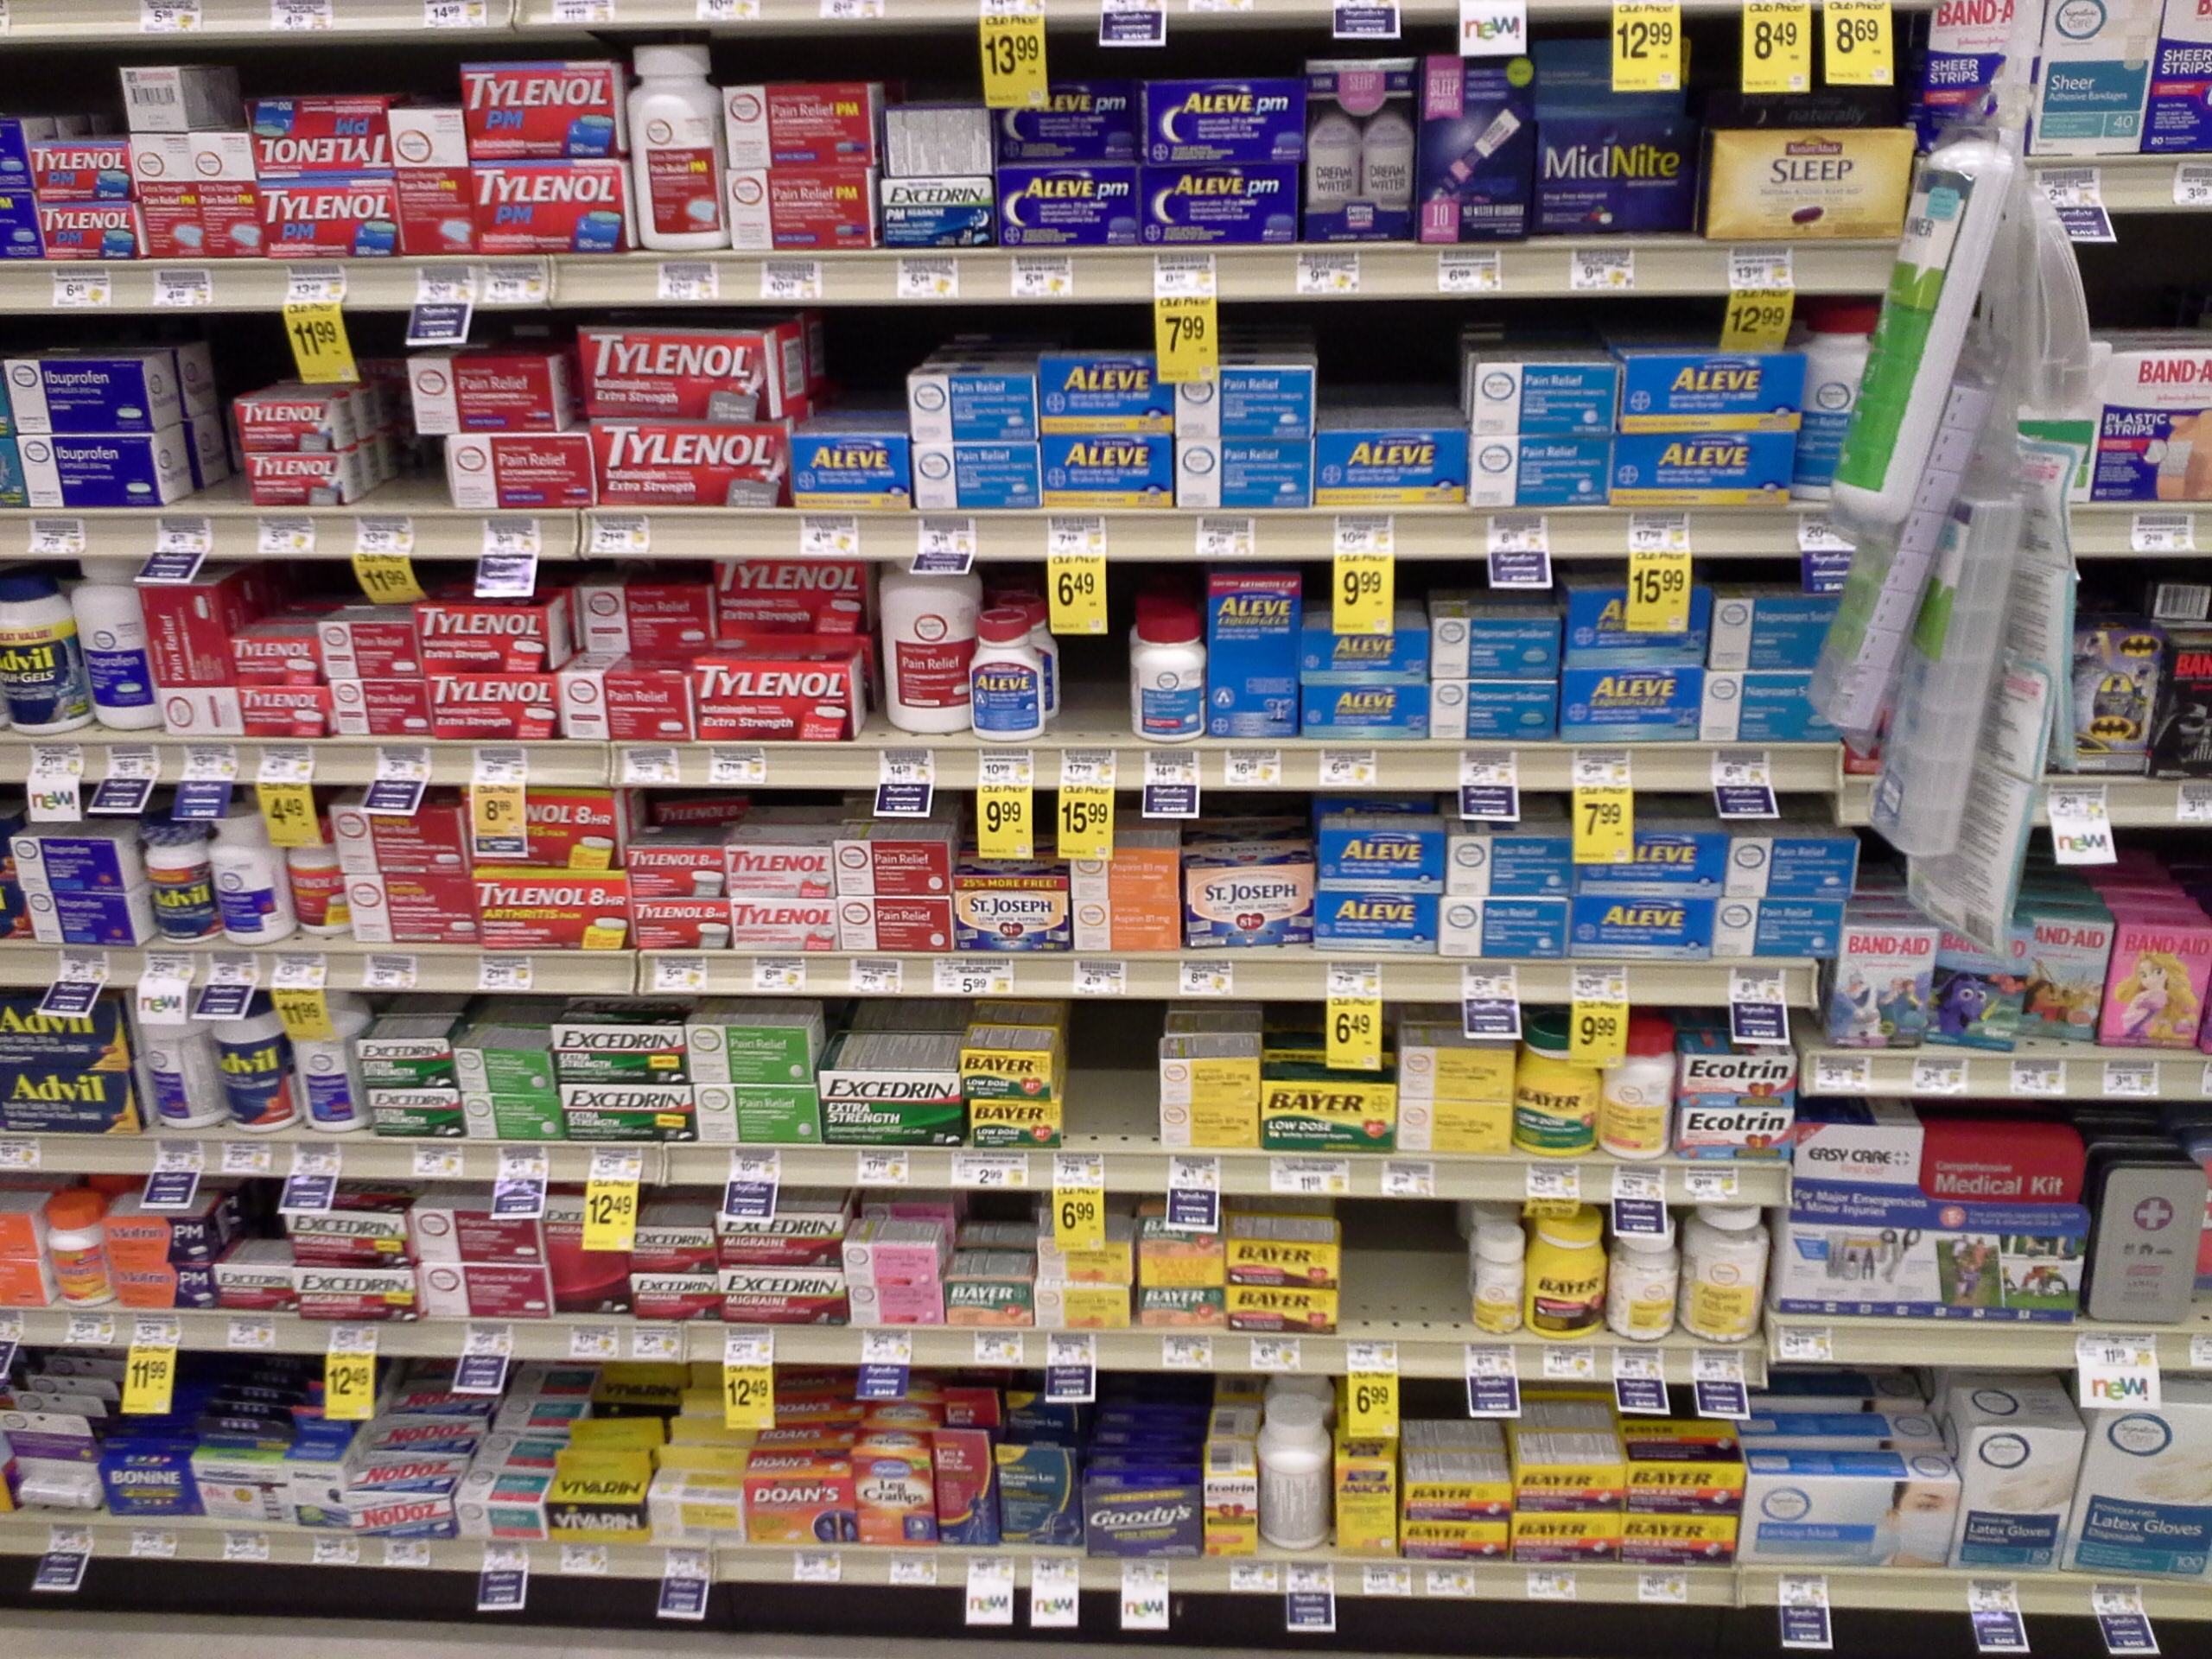product: (1780, 1143, 2054, 1319), (2073, 1394, 2212, 1581), (1705, 129, 1909, 249), (632, 9, 725, 258), (1534, 66, 1663, 244), (583, 314, 791, 411), (1749, 1467, 1956, 1561), (1919, 518, 1984, 802), (1947, 706, 2027, 932), (1817, 537, 1918, 716), (2097, 350, 2212, 507), (1423, 77, 1524, 249), (603, 415, 784, 502), (1932, 129, 1987, 401), (2101, 925, 2212, 1060), (411, 336, 561, 432), (881, 572, 970, 728), (2107, 1164, 2193, 1326), (1961, 1432, 2067, 1561), (472, 59, 615, 155), (728, 75, 864, 173), (1139, 169, 1294, 254), (484, 160, 617, 258), (1623, 434, 1791, 509), (1212, 580, 1296, 730), (1317, 423, 1468, 505), (1825, 927, 1923, 1049), (1684, 1204, 1770, 1344), (2, 572, 73, 732), (1150, 77, 1289, 157), (704, 657, 852, 732), (477, 873, 629, 945), (1602, 1021, 1681, 1159), (740, 173, 871, 254), (1184, 864, 1313, 945), (89, 561, 148, 735), (1564, 587, 1702, 662), (975, 610, 1050, 746), (718, 566, 860, 636), (2078, 634, 2153, 767), (1634, 350, 1796, 411), (449, 434, 594, 502), (1136, 1209, 1221, 1323), (418, 603, 566, 667), (1001, 80, 1125, 157), (583, 572, 707, 648), (827, 1070, 951, 1147), (0, 355, 150, 418), (888, 80, 989, 173), (1480, 430, 1608, 504), (1521, 1023, 1595, 1147), (913, 357, 1029, 436), (1183, 355, 1313, 425), (1035, 430, 1167, 498), (1564, 671, 1703, 735), (155, 810, 216, 957), (1317, 814, 1440, 885), (1007, 173, 1127, 246), (28, 439, 157, 507), (791, 434, 907, 509), (1531, 1213, 1606, 1330), (1470, 362, 1609, 425), (268, 183, 388, 254), (1613, 1209, 1677, 1342), (475, 796, 618, 856), (1134, 615, 1200, 742), (556, 1019, 683, 1086), (1045, 350, 1160, 423), (1439, 605, 1559, 674), (296, 993, 355, 1134), (951, 875, 1068, 946), (688, 1016, 813, 1082), (1585, 829, 1717, 892), (160, 589, 216, 737), (1564, 904, 1712, 960), (336, 802, 474, 861), (223, 807, 280, 948), (1268, 1398, 1324, 1540), (223, 1006, 289, 1126), (557, 680, 691, 739), (1939, 936, 2012, 1042), (1089, 1473, 1191, 1547), (1170, 446, 1308, 502), (1271, 1084, 1397, 1143), (759, 1462, 852, 1542), (268, 98, 380, 164), (547, 1211, 618, 1314), (430, 680, 552, 739), (1308, 676, 1430, 735), (150, 995, 206, 1124), (1308, 106, 1362, 239), (1447, 835, 1564, 896), (402, 120, 456, 251), (1367, 106, 1418, 244), (368, 873, 467, 943), (563, 1087, 683, 1145), (918, 444, 1028, 507), (1686, 1042, 1796, 1105), (2034, 918, 2095, 1030), (860, 1453, 935, 1544), (1306, 610, 1432, 664), (1235, 1218, 1341, 1281), (1008, 1432, 1071, 1539), (192, 1453, 282, 1527), (28, 1419, 94, 1516), (1312, 899, 1439, 948), (1714, 596, 1803, 664), (23, 1079, 134, 1133), (202, 134, 254, 249), (691, 1094, 819, 1141), (19, 826, 141, 875), (1521, 1459, 1620, 1518), (1474, 1218, 1526, 1330), (30, 992, 117, 1058), (1402, 1040, 1512, 1093), (1442, 690, 1555, 741), (423, 1276, 549, 1321), (1733, 840, 1853, 887), (287, 814, 334, 934), (732, 845, 833, 901), (834, 840, 949, 889), (725, 1269, 838, 1317), (883, 186, 975, 246), (942, 1432, 995, 1537), (409, 1215, 540, 1256), (289, 1211, 404, 1258), (629, 894, 732, 946), (23, 892, 141, 938), (106, 1443, 181, 1514), (963, 1035, 1050, 1096), (49, 1187, 94, 1303), (1446, 906, 1557, 953), (1397, 1103, 1507, 1150), (146, 134, 190, 253), (334, 680, 423, 737), (1714, 673, 1803, 730), (103, 1206, 207, 1255), (843, 899, 951, 946), (718, 1215, 829, 1260), (242, 396, 345, 444), (1334, 1460, 1395, 1542), (1639, 1455, 1738, 1504), (362, 1035, 458, 1086), (1073, 908, 1179, 953), (322, 615, 413, 667), (347, 1486, 451, 1532), (967, 1100, 1062, 1148), (40, 199, 129, 251), (1163, 1047, 1252, 1100), (1073, 845, 1179, 889), (129, 56, 197, 124), (110, 1265, 204, 1314), (251, 457, 341, 507), (632, 840, 723, 890), (843, 1230, 930, 1281), (624, 1222, 707, 1274), (1162, 1103, 1266, 1145), (1233, 1284, 1332, 1328), (737, 908, 833, 951), (40, 145, 117, 199), (1635, 1514, 1743, 1553), (1043, 1232, 1130, 1279), (469, 1098, 563, 1141), (303, 1276, 409, 1314), (373, 1093, 458, 1140), (237, 636, 322, 681), (550, 1499, 644, 1539), (1686, 1119, 1780, 1159), (1524, 1514, 1618, 1554), (946, 1281, 1028, 1326), (1418, 1480, 1515, 1516), (857, 1284, 937, 1328), (648, 1500, 742, 1537), (1723, 908, 1808, 948), (1207, 1480, 1258, 1546), (1047, 1286, 1129, 1326), (1407, 1525, 1515, 1554), (294, 1453, 341, 1521), (639, 1281, 718, 1321), (212, 1267, 291, 1307), (246, 692, 327, 728), (458, 1497, 543, 1528), (470, 1058, 547, 1087)
